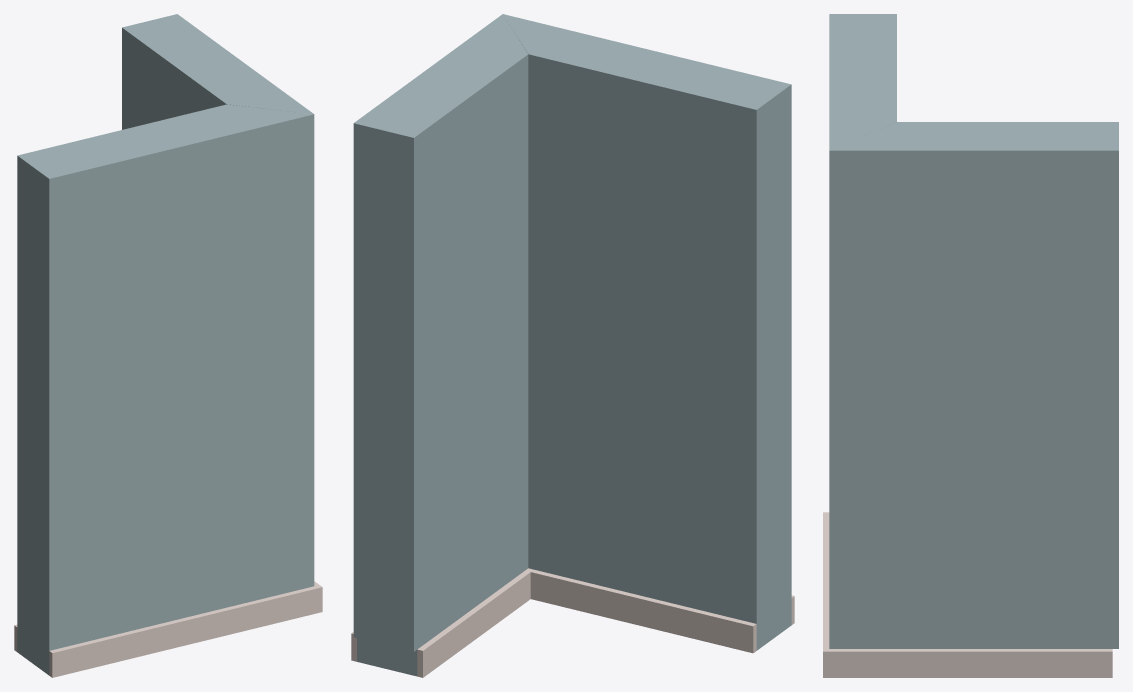
The model's file is InsideCornerConnector.fbx.
3 views of the same model, side by side, from view 1: azimuth 30°, elevation 25°; view 2: azimuth 150°, elevation 25°; view 3: azimuth 270°, elevation 25° (orthographic). The views are drawn at different scales.
Visible parts, largest first — view 1: InsideCornerConnector; view 2: InsideCornerConnector; view 3: InsideCornerConnector.
Part boxes in pixels (bbox=[...]): InsideCornerConnector: bbox=[14, 14, 322, 677]; InsideCornerConnector: bbox=[351, 14, 794, 677]; InsideCornerConnector: bbox=[823, 14, 1118, 677].
Bounding box in the file's own units: 1.14 × 1.02 × 2.
